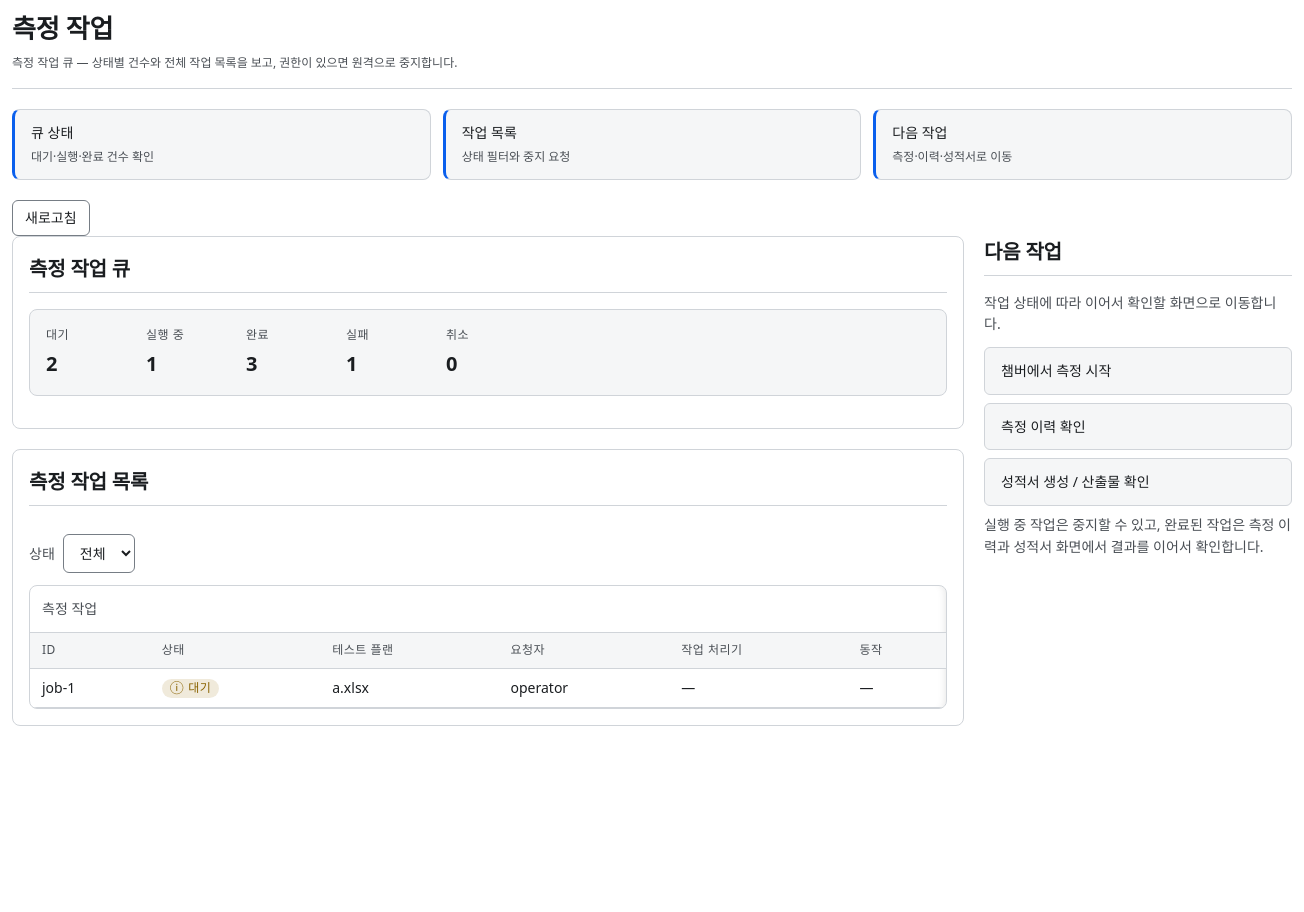
Test case: JobsRoute › gives the operator an explicit way to re-read the queue (S8)
Expected: the number of rows with test id "job-row" is 1, [30, 669, 946, 708]
What coordinates should you click on to do the following:
click the button with test id "jobs-refresh"
I would click on:
 (51, 218)
Its box is [12, 200, 90, 236].
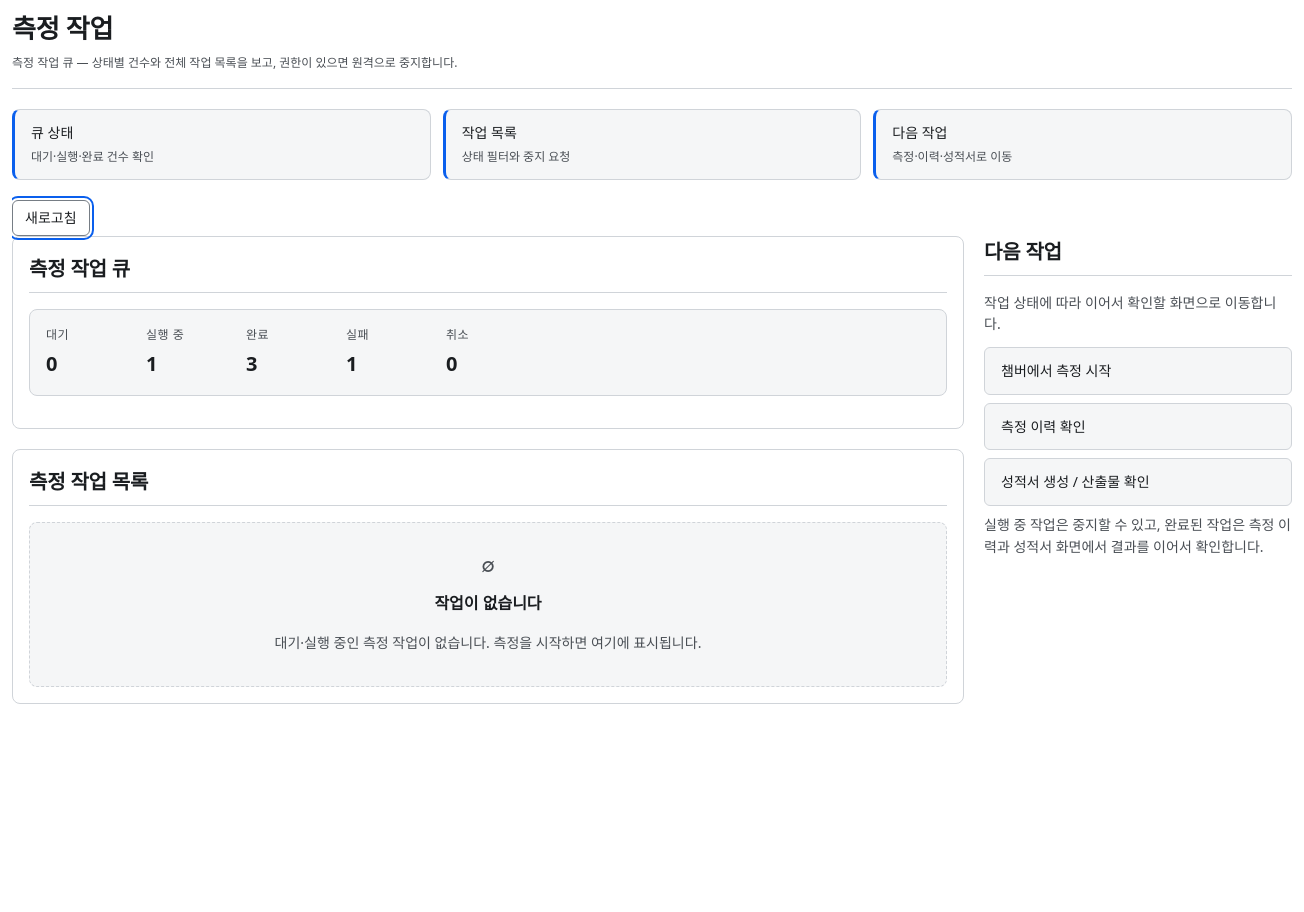
Result: no rows with test id "job-row" are shown
Result: the text with test id "job-count-queued" reads "0" at [46, 350, 58, 377]
